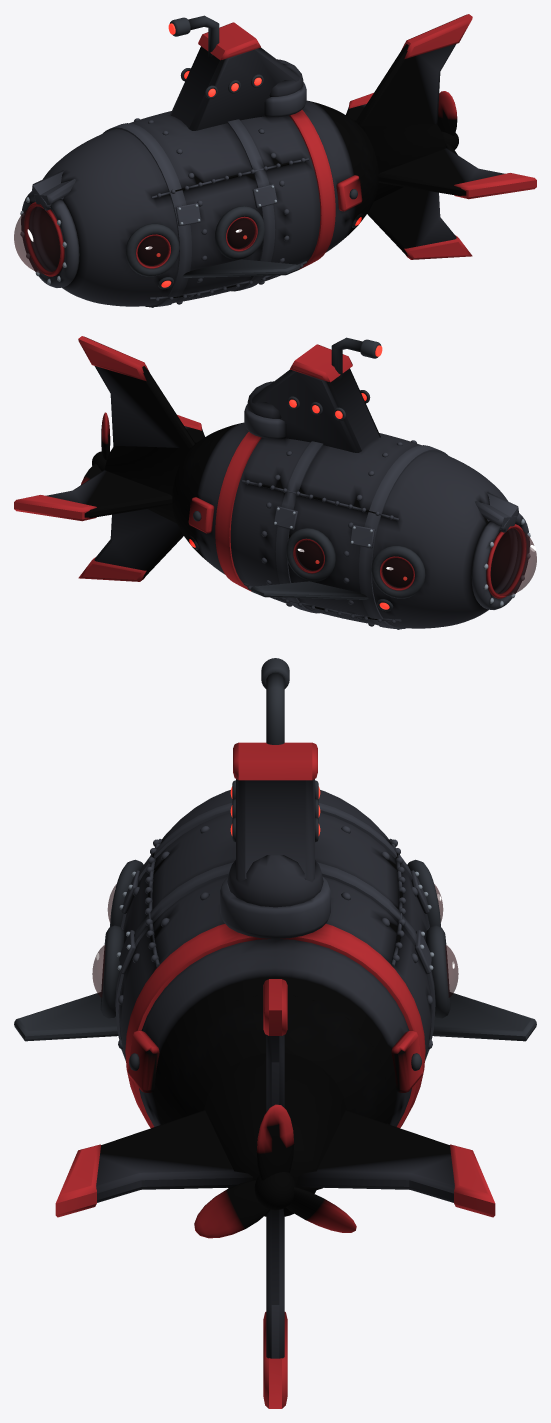
File: enemy_gunner.glb
3 renders of one model, top to bottom at view 1: azimuth 30°, elevation 25°; view 2: azimuth 150°, elevation 25°; view 3: azimuth 270°, elevation 25°, orthographic. The views are drawn at different scales.
Parts seen in each view (by area): view 1: enemy_gunner_body, side_detail.001, propeller.001; view 2: enemy_gunner_body, side_detail.001, propeller.001; view 3: enemy_gunner_body, side_detail.001, propeller.001.
Part boxes in pixels (<box>): enemy_gunner_body: <box>14,14,536,307</box>; side_detail.001: <box>125,158,308,301</box>; propeller.001: <box>437,91,458,154</box>; enemy_gunner_body: <box>14,336,536,629</box>; side_detail.001: <box>242,480,425,623</box>; propeller.001: <box>81,412,110,484</box>; enemy_gunner_body: <box>14,658,536,1408</box>; side_detail.001: <box>92,838,458,1018</box>; propeller.001: <box>194,1104,356,1238</box>.
Bounding box in the file's own units: 4.69 × 3.04 × 2.82.
